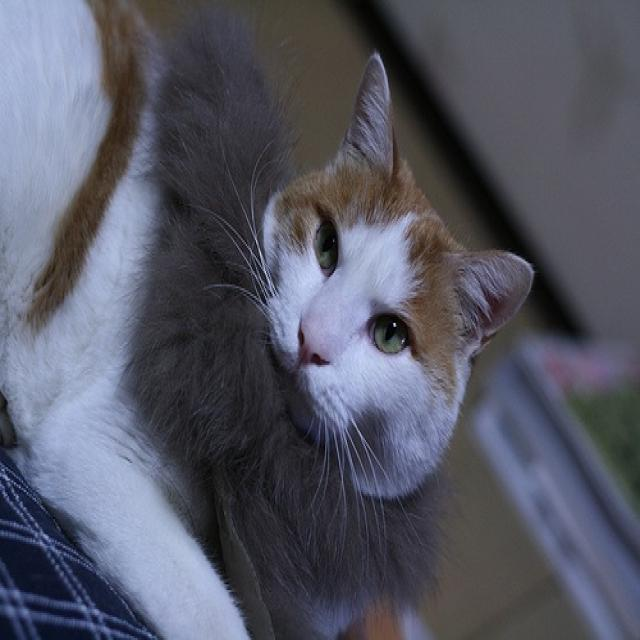cat: (0, 6, 539, 638)
